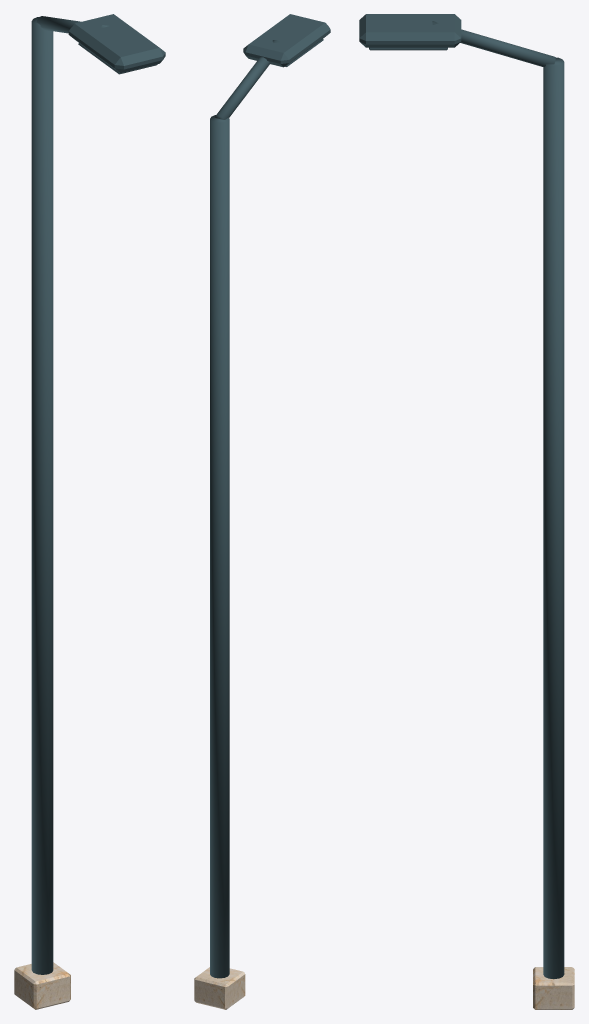
Rendered from street_lamp.glb.
3 renders of one model, left to right at view 1: azimuth 30°, elevation 25°; view 2: azimuth 150°, elevation 25°; view 3: azimuth 270°, elevation 25°, orthographic. The views are drawn at different scales.
Parts seen in each view (by area): view 1: street_lamp__VVK_painted_steel, street_lamp__VVK_concrete_CC0; view 2: street_lamp__VVK_painted_steel, street_lamp__VVK_concrete_CC0; view 3: street_lamp__VVK_painted_steel, street_lamp__VVK_concrete_CC0.
Part boxes in pixels (x1=…): street_lamp__VVK_painted_steel: x1=31, y1=14, x2=165, y2=974; street_lamp__VVK_concrete_CC0: x1=14, y1=962, x2=70, y2=1009; street_lamp__VVK_painted_steel: x1=210, y1=14, x2=330, y2=978; street_lamp__VVK_concrete_CC0: x1=194, y1=967, x2=245, y2=1009; street_lamp__VVK_painted_steel: x1=359, y1=14, x2=564, y2=979; street_lamp__VVK_concrete_CC0: x1=533, y1=967, x2=574, y2=1009.
Bounding box in the file's own units: 0.3 × 5.73 × 1.14.
3 materials, 1 textured.
